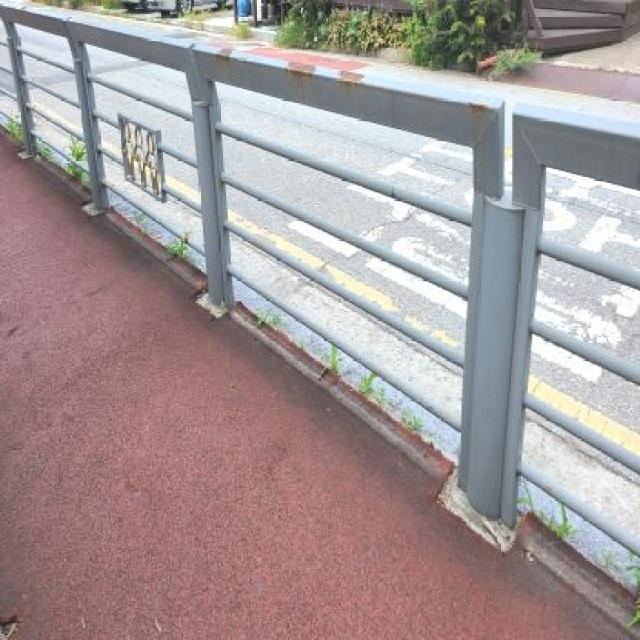fence: (188, 17, 629, 585), (9, 5, 314, 299)
